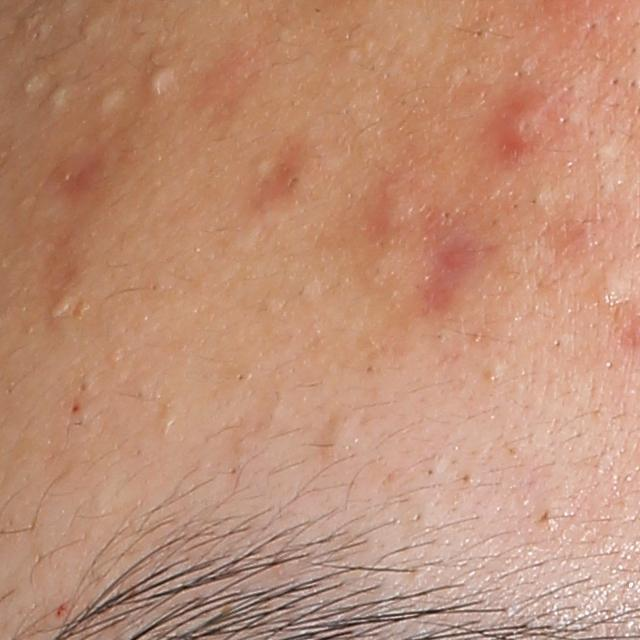comedo: (317, 411, 360, 459), (79, 10, 108, 44), (99, 88, 125, 113), (45, 84, 70, 109), (48, 298, 72, 321), (21, 74, 43, 94), (473, 26, 487, 42)
papule: (503, 105, 550, 155), (380, 179, 419, 232)
